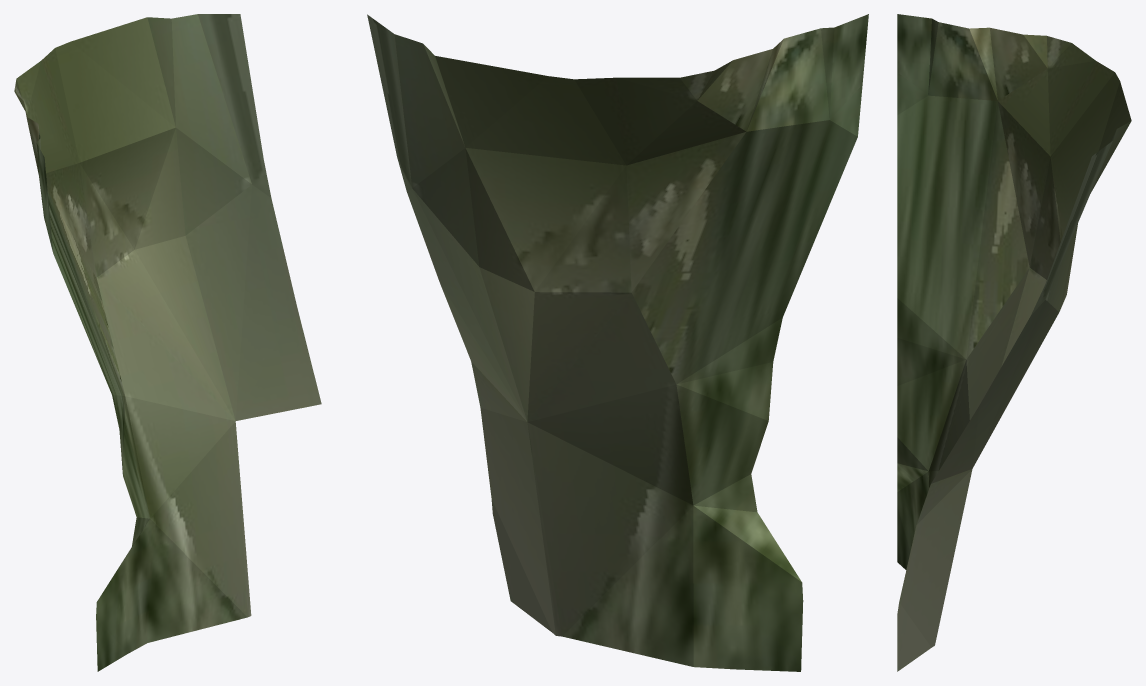
3 views of the same model, side by side, from view 1: azimuth 30°, elevation 25°; view 2: azimuth 150°, elevation 25°; view 3: azimuth 270°, elevation 25° (orthographic). The views are drawn at different scales.
Size of the model in its own units: 1.72 by 2.95 by 1.2.
2 materials, 2 textured.
